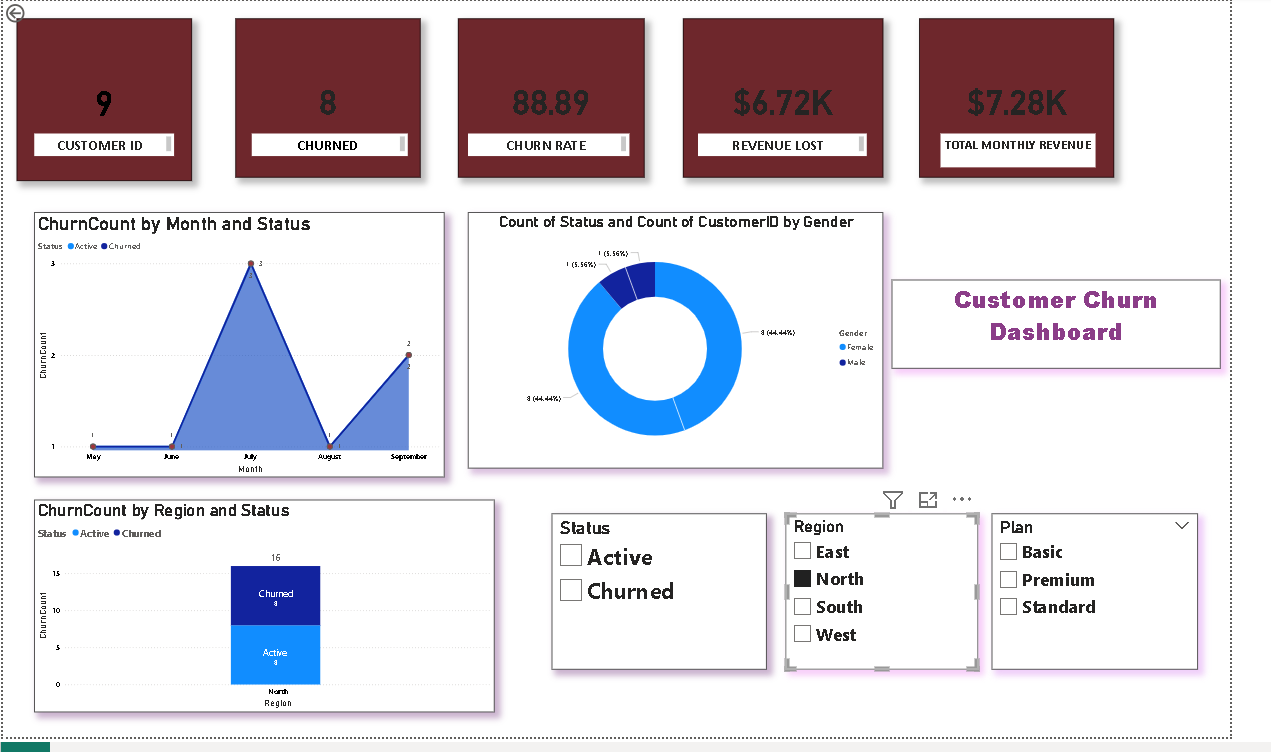

This screenshot's page, from the dashboard's own definition file:
{"tool":"powerbi","page":{"name":"Page 1","canvas":[2000,1200],"ordinal":0},"visuals":[{"type":"card","fields":{"Values":["Count(Sheet1.CustomerID)"]},"box":[22.4,28.5,285.3,264.9],"z":0},{"type":"card","fields":{"Values":["Count(Sheet1.CustomerID)"]},"box":[379.1,28.5,301.6,258.8],"z":1000},{"type":"actionButton","box":[0,0,100,40],"z":2000},{"type":"card","fields":{"Values":["Sheet1.ChurnRate"]},"box":[741.9,28.5,303.7,258.8],"z":3000},{"type":"card","fields":{"Values":["Sheet1.TotalMonthlyRevenue"]},"box":[1493.9,28.5,317.9,258.8],"z":4000},{"type":"card","fields":{"Values":["Sheet1.RevenueLost"]},"box":[1108.7,28.5,326.1,258.8],"z":5000},{"type":"lineChart","fields":{"Category":["Sheet1.ChurnDate.Variation.Date Hierarchy.Month"],"Y":["Sheet1.ChurnCount"],"Series":["Sheet1.Status"]},"box":[51,344.4,668.5,432.1],"z":6000},{"type":"columnChart","fields":{"Category":["Sheet1.Region"],"Y":["Sheet1.ChurnCount"],"Series":["Sheet1.Status"]},"box":[51,813.2,750,346.5],"z":7000},{"type":"donutChart","fields":{"Category":["Sheet1.Gender"],"Y":["CountNonNull(Sheet1.Status)","CountNonNull(Sheet1.CustomerID)"]},"box":[758.2,344.4,676.6,417.8],"z":8000},{"type":"slicer","fields":{"Values":["Sheet1.Plan"]},"box":[1612.1,835.6,336.3,254.8],"z":9000},{"type":"slicer","fields":{"Values":["Sheet1.Region"]},"box":[1275.8,835.6,313.9,254.8],"z":10000},{"type":"slicer","fields":{"Values":["Sheet1.Status"]},"box":[894.7,835.6,350.5,254.8],"z":11000},{"type":"textbox","box":[1449.1,454.5,536,144.7],"z":11001}]}

Visuals, with their boxes in screenshot pixels (x1, y1, x2, y2), scaled from the page's 2000x1200 canvas onto the 1271x752 screenshot:
card - Count(Sheet1.CustomerID): region(14, 18, 196, 184)
card - Count(Sheet1.CustomerID): region(241, 18, 433, 180)
actionButton: region(0, 0, 64, 25)
card - Sheet1.ChurnRate: region(471, 18, 664, 180)
card - Sheet1.TotalMonthlyRevenue: region(949, 18, 1151, 180)
card - Sheet1.RevenueLost: region(705, 18, 912, 180)
lineChart - Sheet1.ChurnDate.Variation.Date Hierarchy.Month x Sheet1.ChurnCount: region(32, 216, 457, 487)
columnChart - Sheet1.Region x Sheet1.ChurnCount: region(32, 510, 509, 727)
donutChart - Sheet1.Gender x CountNonNull(Sheet1.Status): region(482, 216, 912, 478)
slicer - Sheet1.Plan: region(1024, 524, 1238, 683)
slicer - Sheet1.Region: region(811, 524, 1010, 683)
slicer - Sheet1.Status: region(569, 524, 791, 683)
textbox: region(921, 285, 1262, 375)
